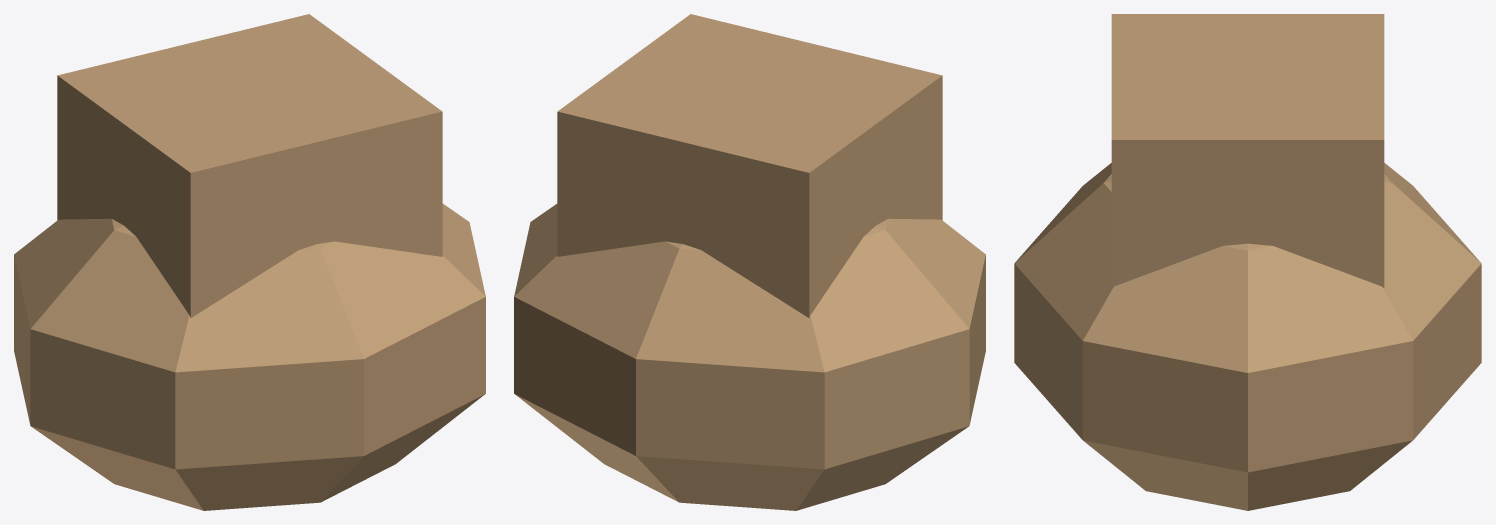
Rendered from baseball-park-and-batting-cages-rosin-bag-9ecde7b5__33777.glb.
The picture shows the model from 3 angles, left to right: view 1: azimuth 30°, elevation 25°; view 2: azimuth 150°, elevation 25°; view 3: azimuth 270°, elevation 25°; orthographic projection. The views are drawn at different scales.
Parts seen in each view (by area): view 1: rosin-bag; view 2: rosin-bag; view 3: rosin-bag.
Boxes of the visible parts, bbox=[...] form: rosin-bag: bbox=[14, 14, 485, 510]; rosin-bag: bbox=[514, 14, 985, 510]; rosin-bag: bbox=[1014, 14, 1481, 510].
Bounding box in the file's own units: 0.1046 × 0.0883 × 0.0942.
